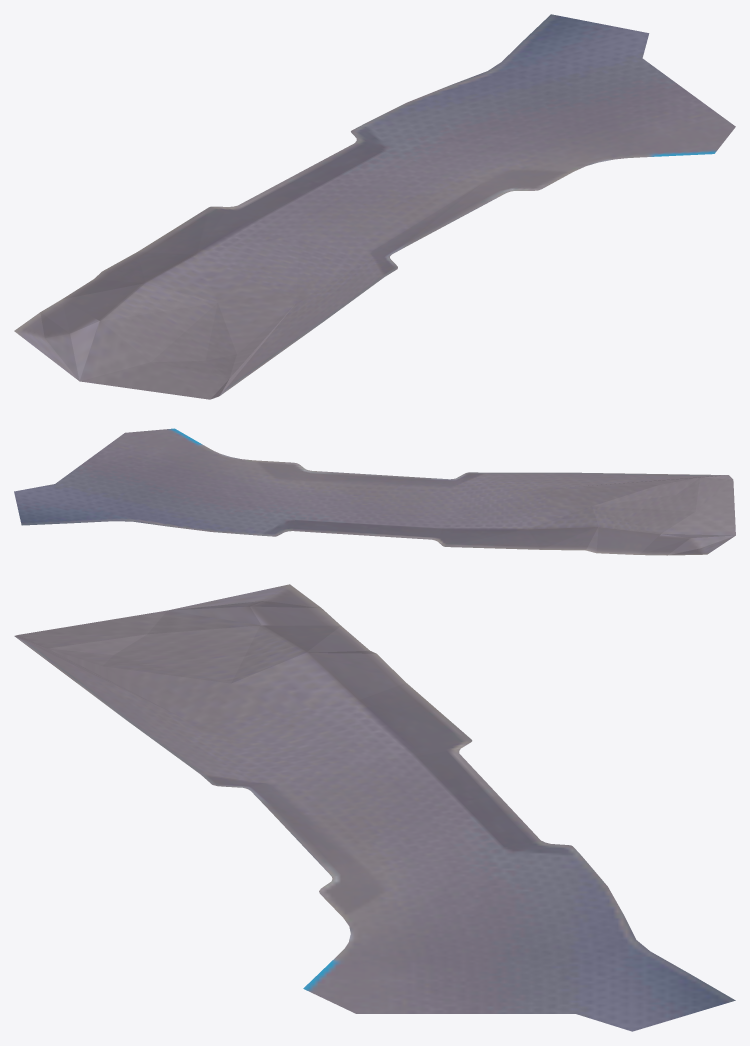
Rendered from pref_fx_blueslowareaeffect_beta03_roadb_02_lv0.fbx.
The picture shows the model from 3 angles, top to bottom: view 1: azimuth 30°, elevation 25°; view 2: azimuth 150°, elevation 25°; view 3: azimuth 270°, elevation 25°; orthographic projection. The views are drawn at different scales.
Parts seen in each view (by area): view 1: color (1); view 2: color (1); view 3: color (1).
Boxes of the visible parts, left/top/right/bottom form: color (1): left=14, top=14, right=735, bottom=399; color (1): left=14, top=428, right=735, bottom=555; color (1): left=14, top=584, right=735, bottom=1031.
Bounding box in the file's own units: 27.54 × 0.835 × 18.75.
